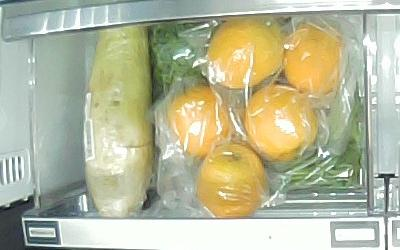orange_vinyl: (244, 85, 316, 161), (207, 17, 285, 87), (196, 144, 265, 218), (167, 85, 231, 157), (284, 25, 343, 94)
